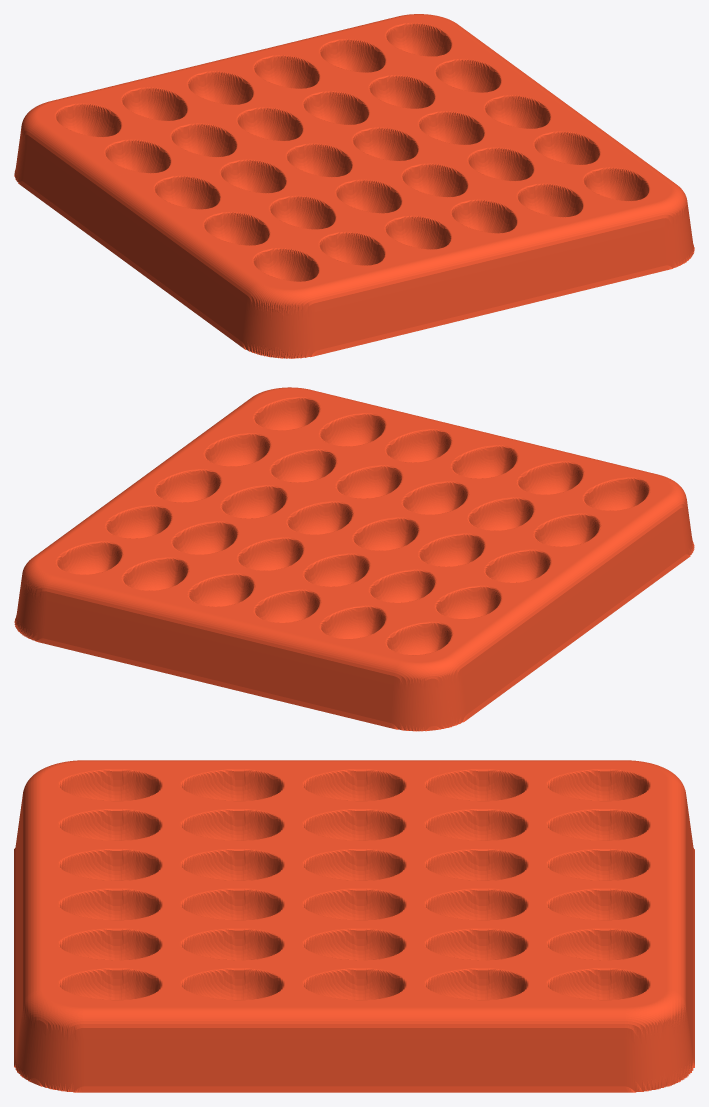
Rendered from mold.glb.
The picture shows the model from 3 angles, top to bottom: view 1: azimuth 30°, elevation 25°; view 2: azimuth 150°, elevation 25°; view 3: azimuth 270°, elevation 25°; orthographic projection. The views are drawn at different scales.
Parts seen in each view (by area): view 1: geometry_0; view 2: geometry_0; view 3: geometry_0.
Boxes of the visible parts, box(x1,y1,x2,y2) form: geometry_0: box(14, 14, 694, 358); geometry_0: box(14, 387, 694, 731); geometry_0: box(14, 760, 694, 1092).
Size of the model in its own units: 0.0824 by 0.0105 by 0.0882.
